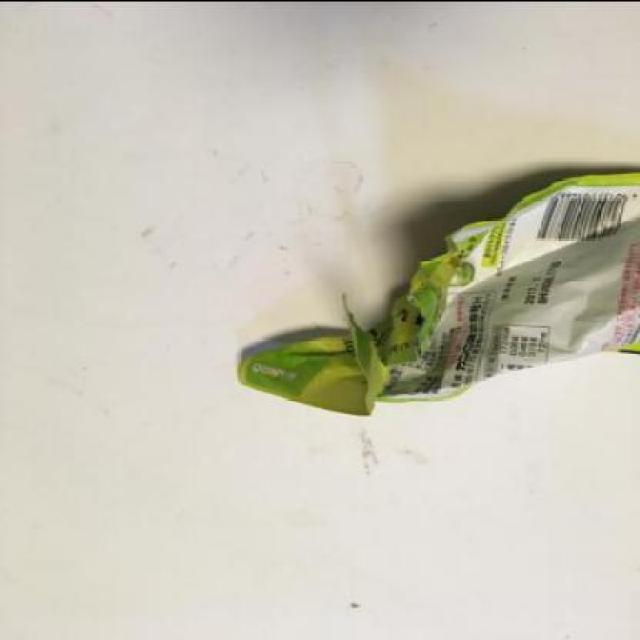PLASTIC: (237, 172, 638, 416)
